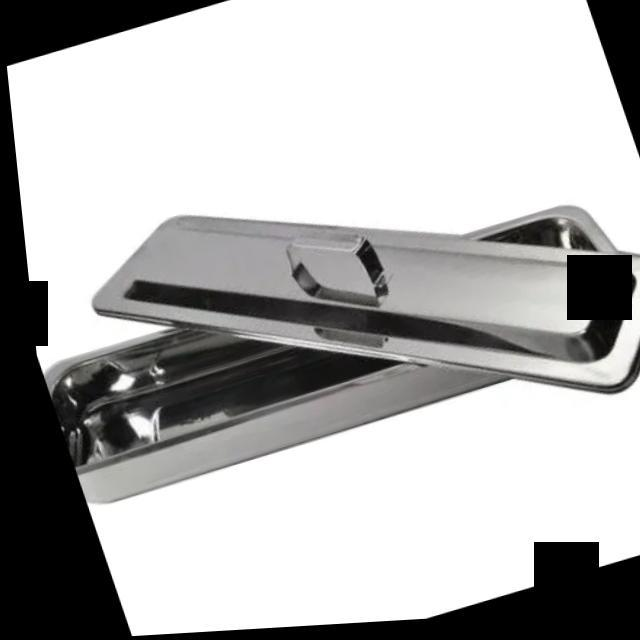Catheter Tray: (14, 136, 640, 559)
